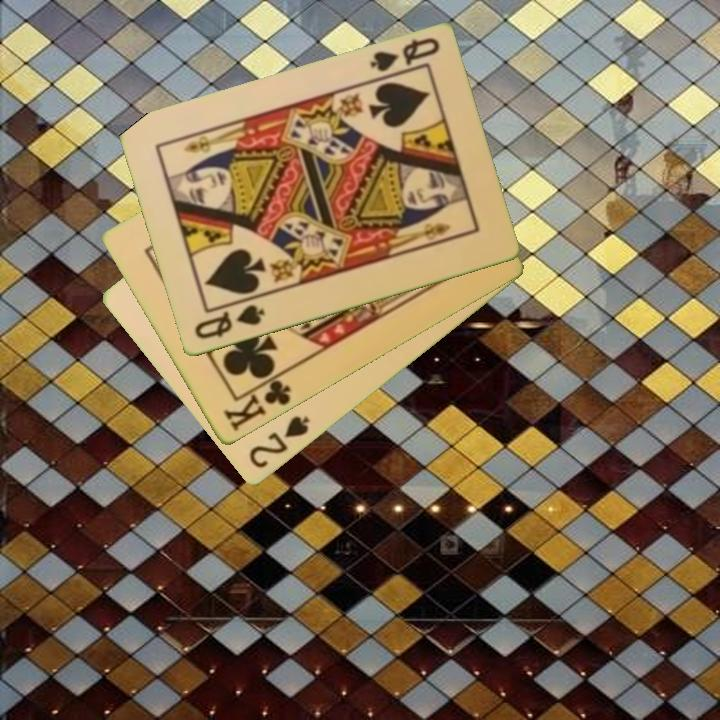2s: (245, 412, 313, 472)
Kc: (220, 370, 294, 435)
Qs: (190, 301, 268, 343), (366, 34, 443, 76)
